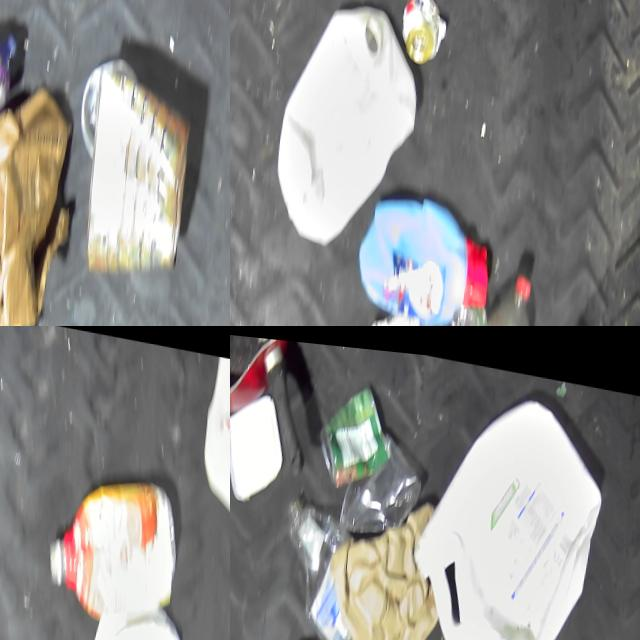can: (314, 371, 394, 487), (398, 0, 450, 62)
milk_jug: (413, 380, 606, 640), (270, 0, 424, 256), (72, 586, 191, 640), (197, 342, 230, 513)
non_white_jug: (352, 177, 494, 326)
plastic_bottle: (436, 248, 538, 326)
